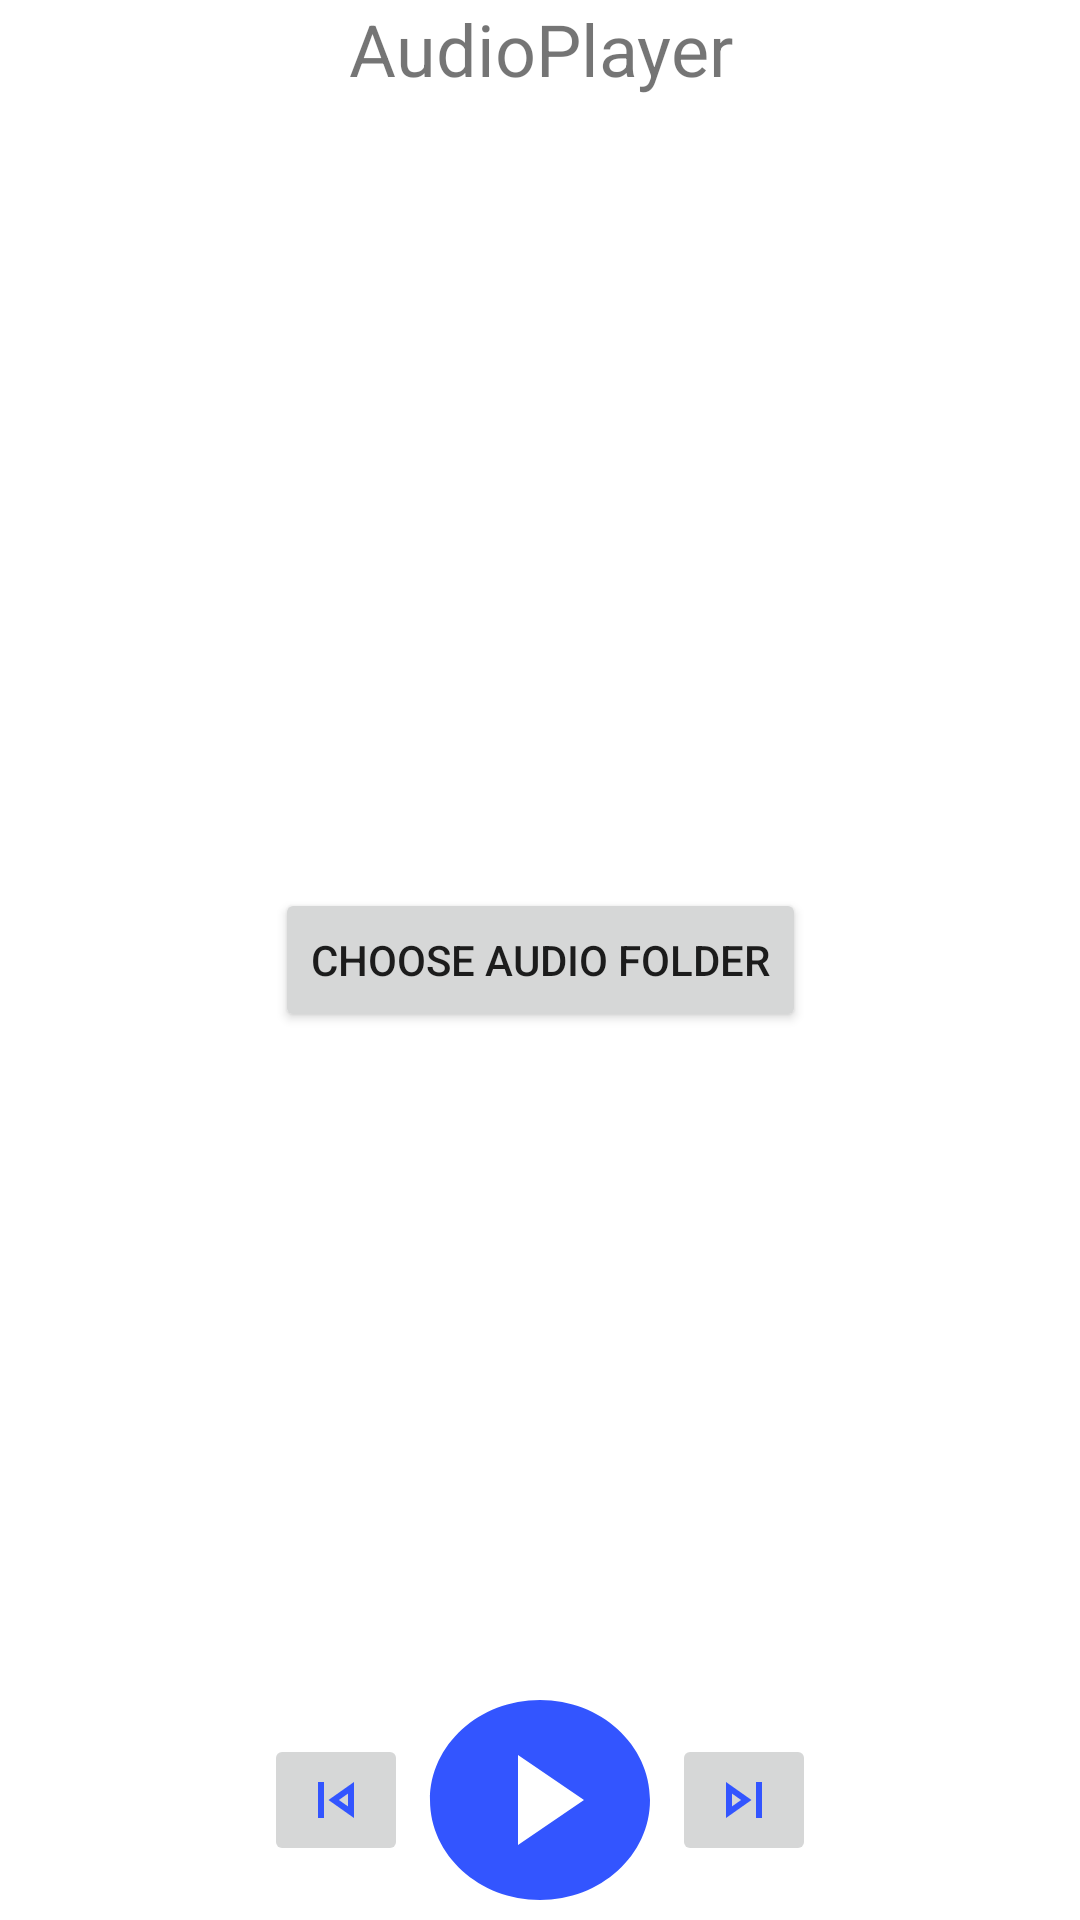

Icon click points for this 1080px x 1920px phone screenshot, format (x,y):
play pause: (540,1800)
skip next: (744,1800)
skip previous: (336,1800)
